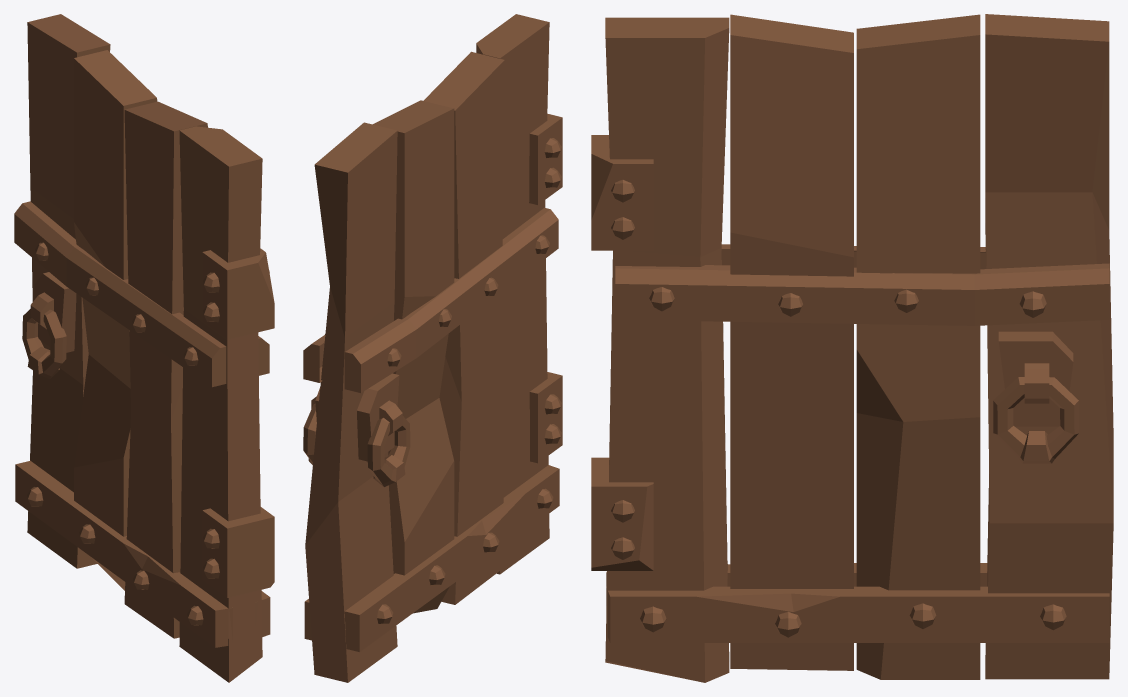
The model's file is handle door 2.fbx.
3 renders of one model, left to right at view 1: azimuth 30°, elevation 25°; view 2: azimuth 150°, elevation 25°; view 3: azimuth 270°, elevation 25°, orthographic. The views are drawn at different scales.
Visible parts, largest first — view 1: handle_door_2; view 2: handle_door_2; view 3: handle_door_2.
Part boxes in pixels (x1=…): handle_door_2: x1=14, y1=14, x2=274, y2=682; handle_door_2: x1=303, y1=14, x2=562, y2=682; handle_door_2: x1=591, y1=14, x2=1113, y2=682.
Size of the model in its own units: 0.3833 by 2.18 by 1.59.
